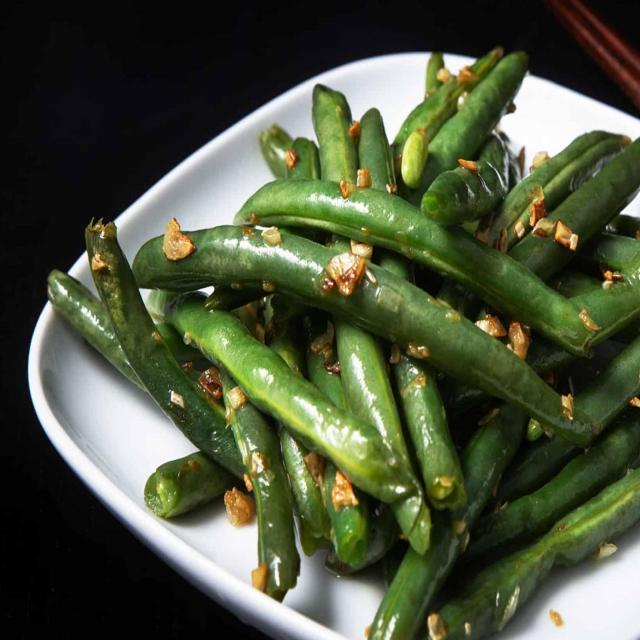Beans: (37, 55, 639, 639)
